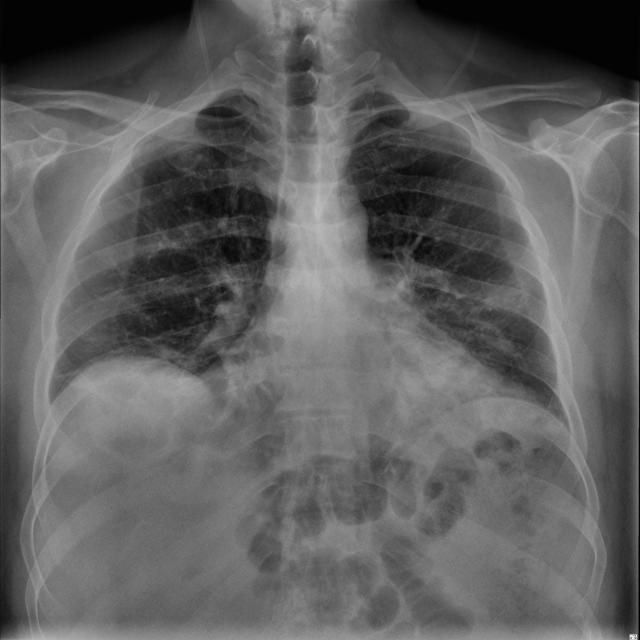abnormalities: (230, 436, 480, 640), (413, 426, 553, 544), (186, 182, 238, 223), (216, 230, 268, 266), (161, 240, 202, 280), (404, 227, 443, 266)
diaphragm: (51, 352, 574, 620)
heart: (245, 172, 476, 448)
left_lobe: (338, 87, 568, 423)
right_lobe: (49, 86, 290, 416)
